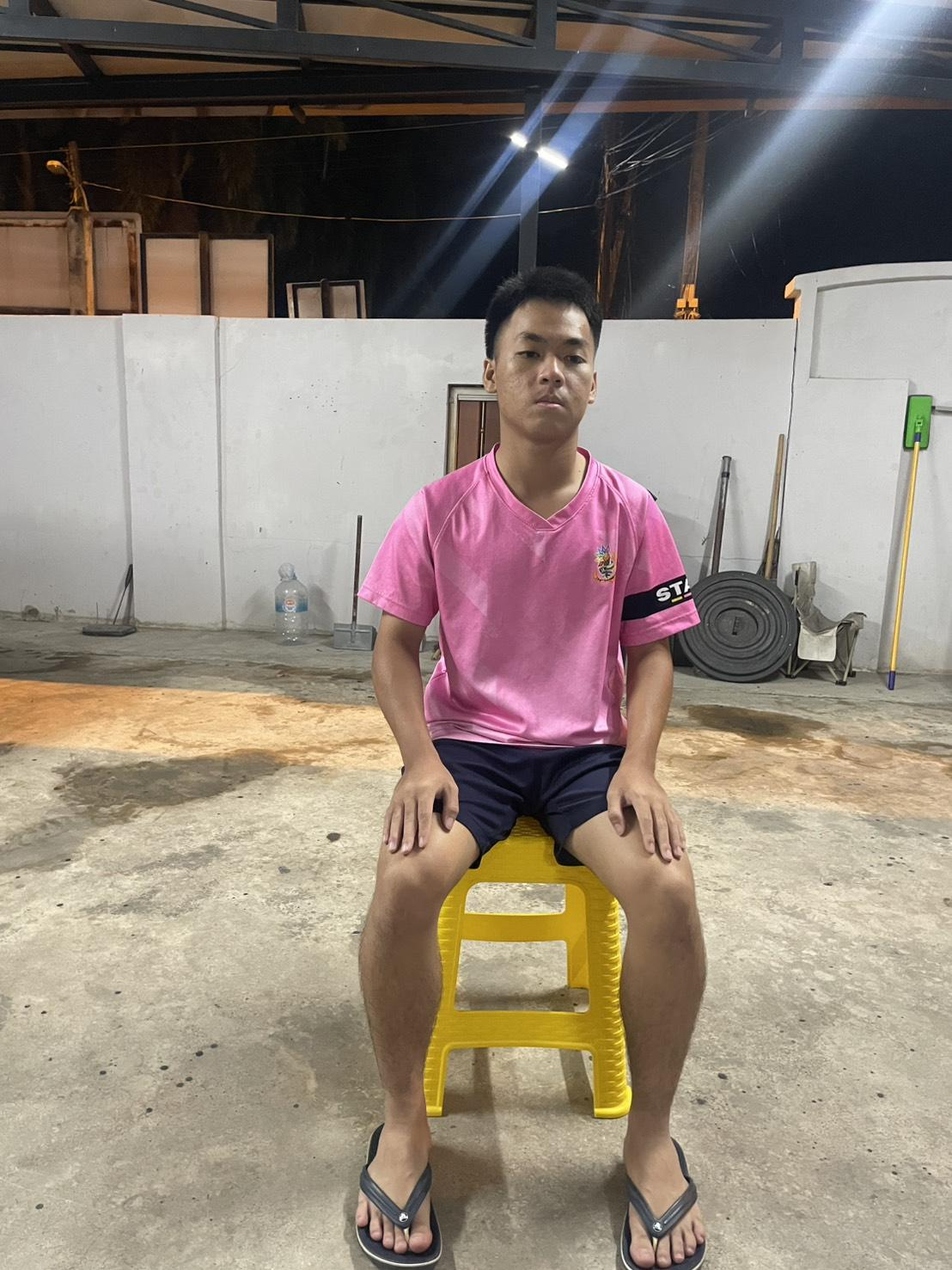GoodPosture: (355, 267, 705, 1269), (361, 270, 697, 748)
